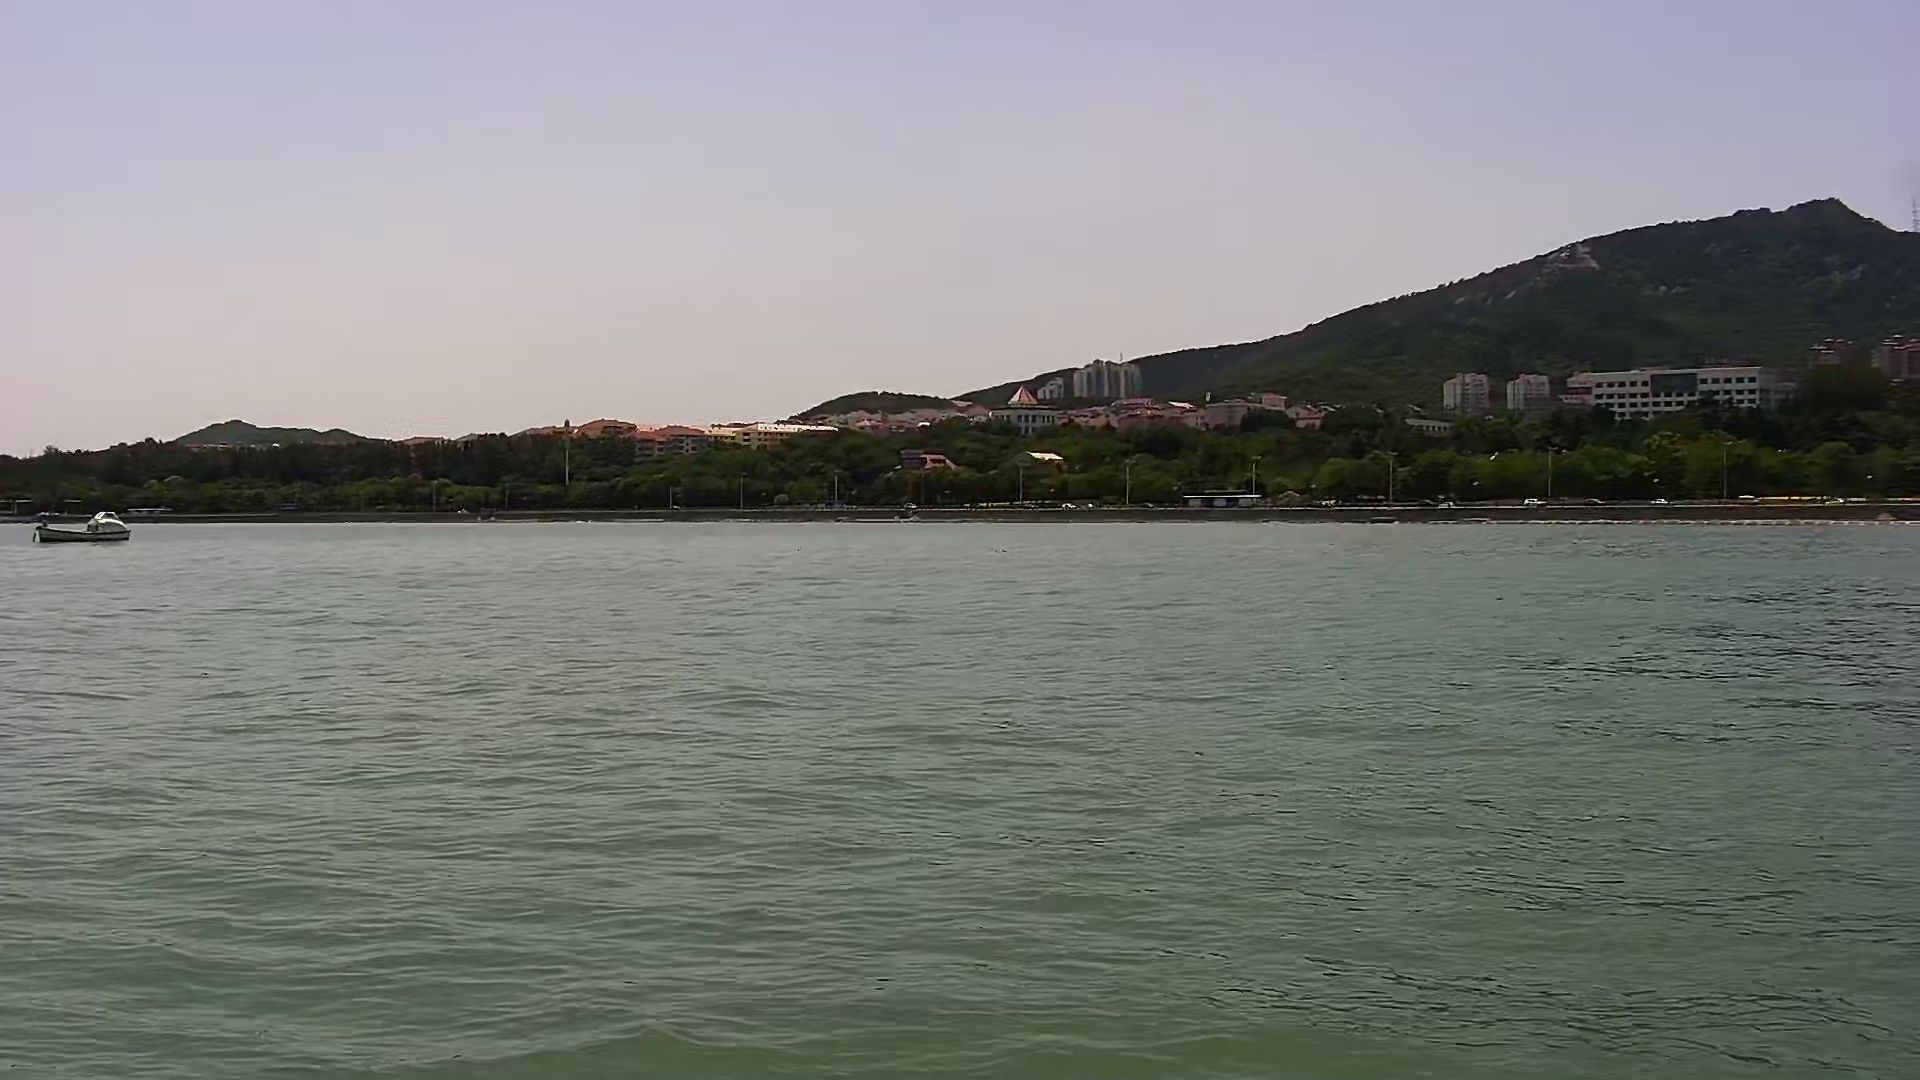ship: (36, 498, 142, 553)
